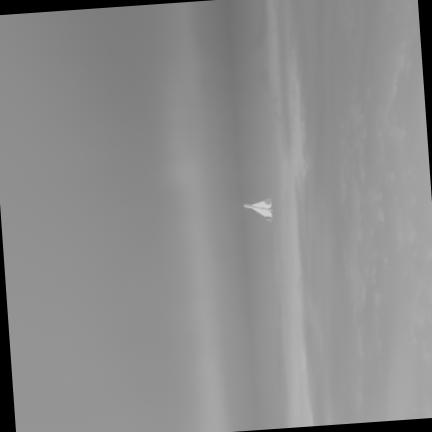Shahed: (243, 198, 272, 220)
